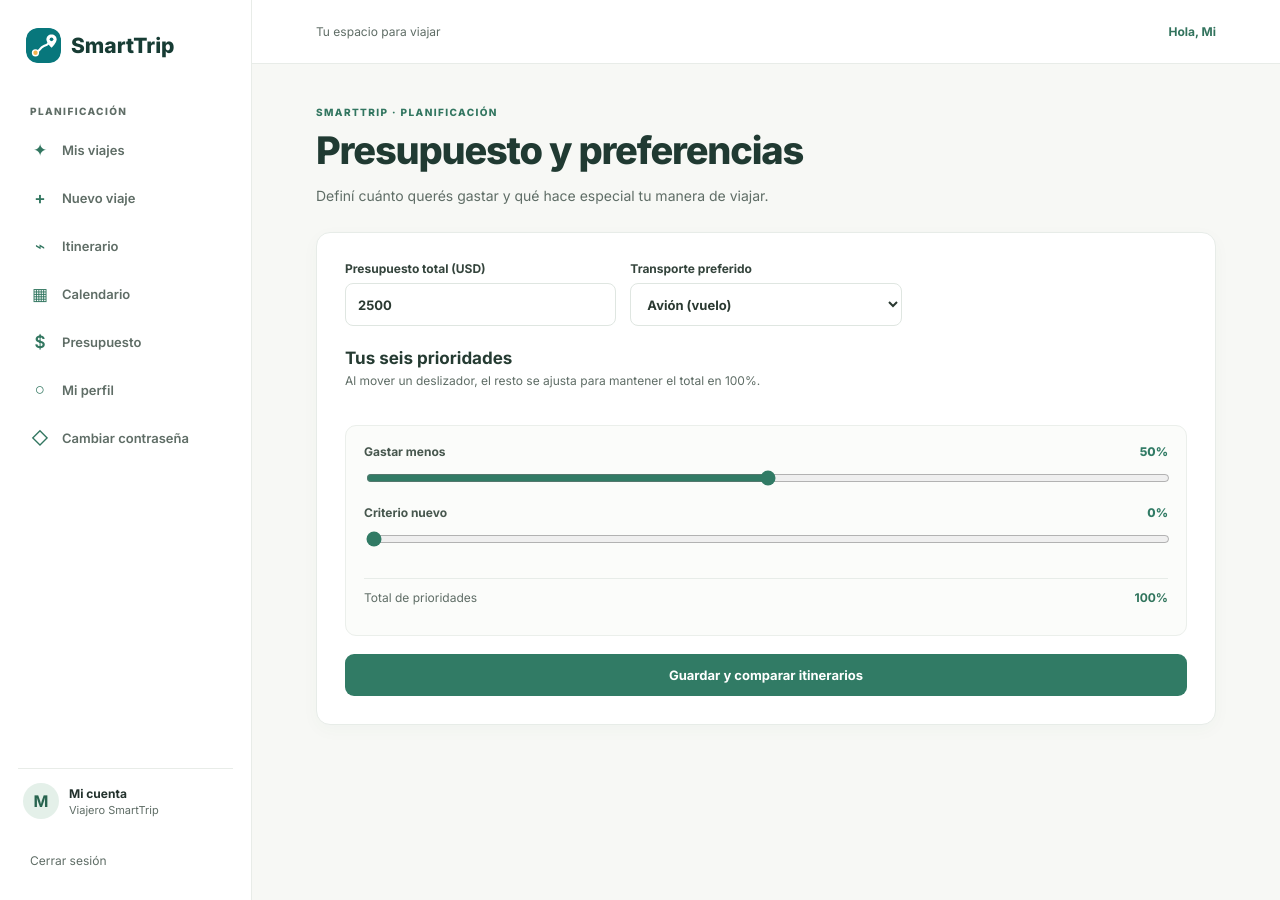
Test: BudgetPreferences › con las opciones que define el backend › no guarda si un criterio nuevo del backend hace que las seis prioridades no sumen 100
Set the slider named "Criterio nuevo" to "20": {"x": 532, "y": 539} [366,531,1170,547]
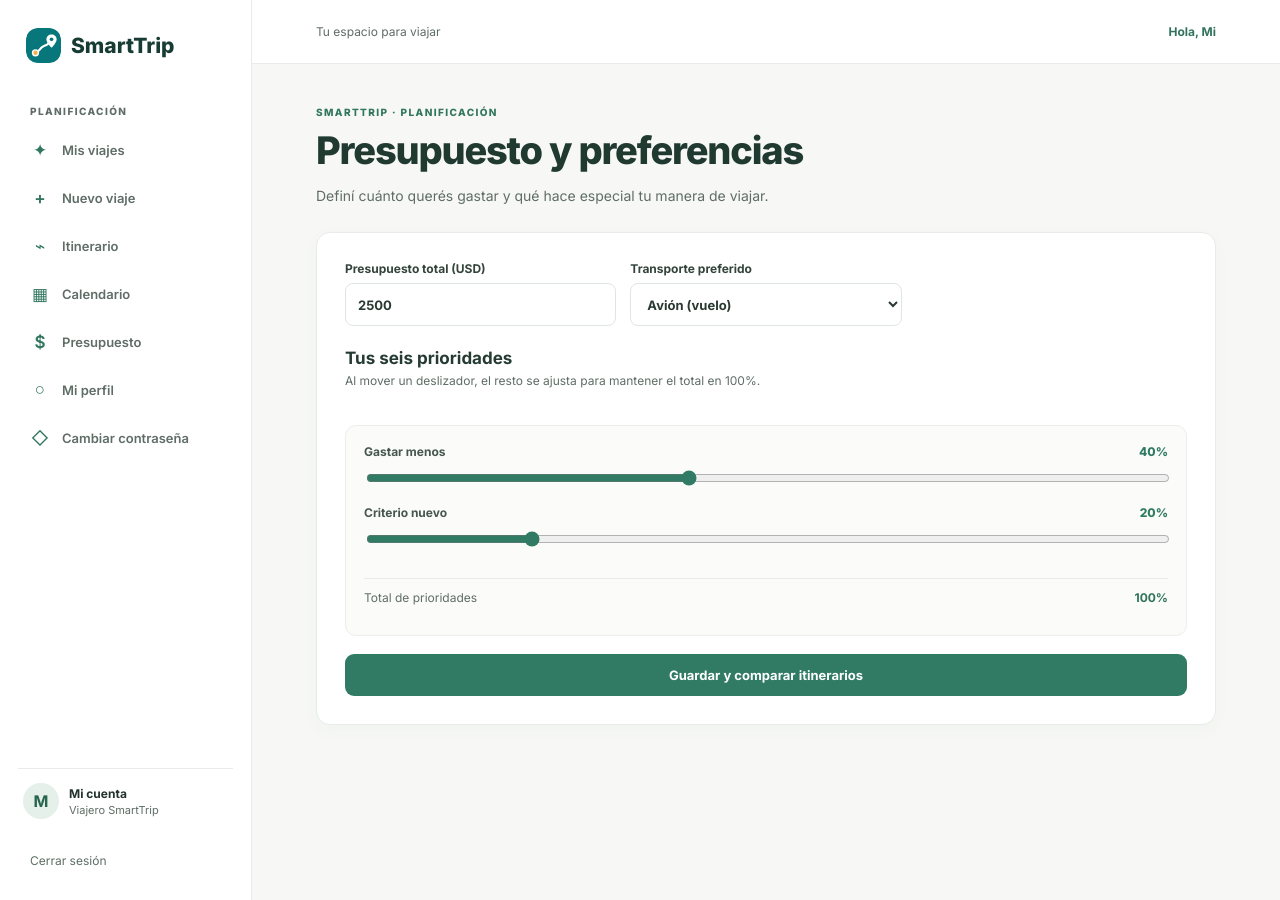
Set the slider named "Gastar menos" to "50": {"x": 768, "y": 478} [366,470,1170,486]
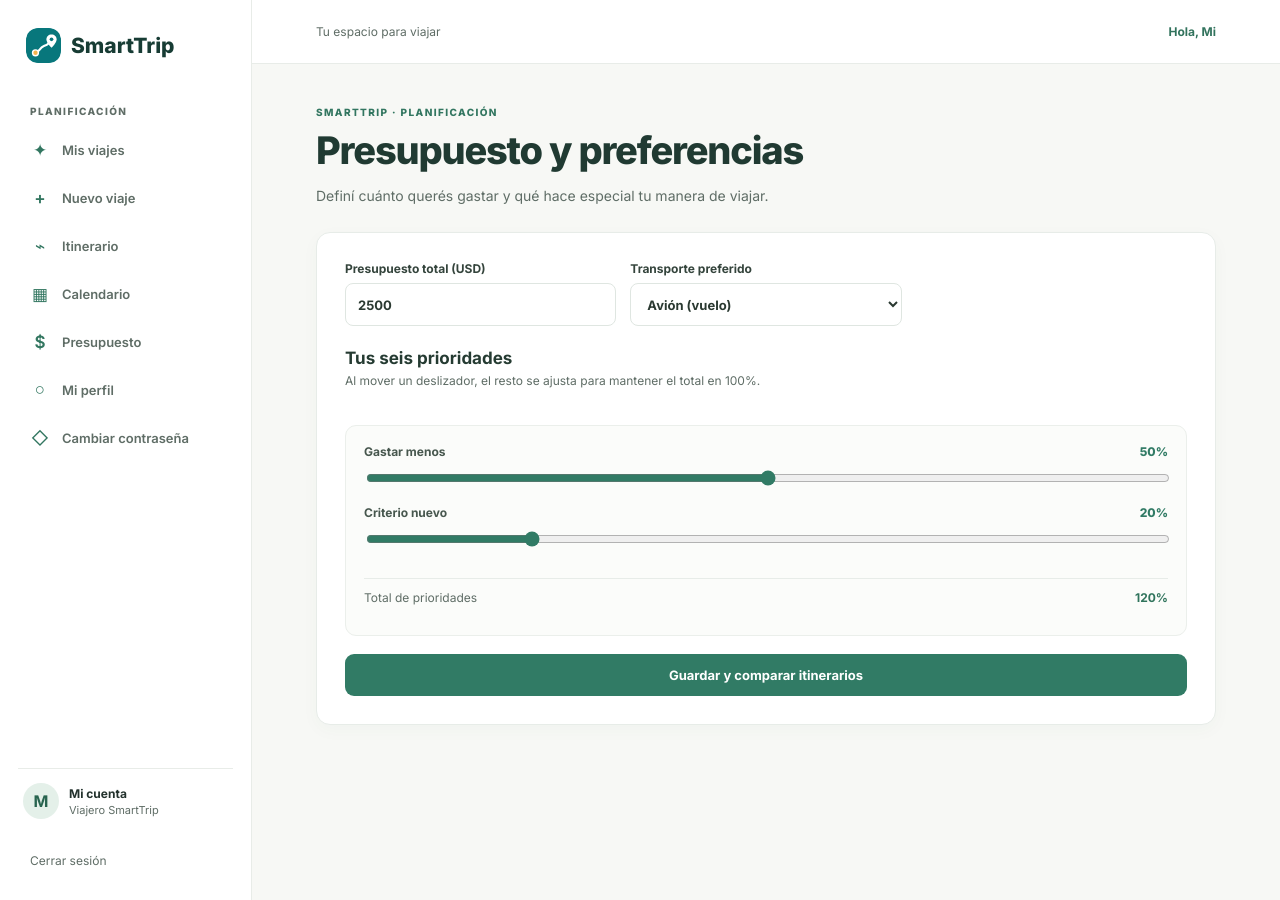
Click the button "Guardar y comparar itinerarios": {"x": 766, "y": 675} [345,654,1187,696]
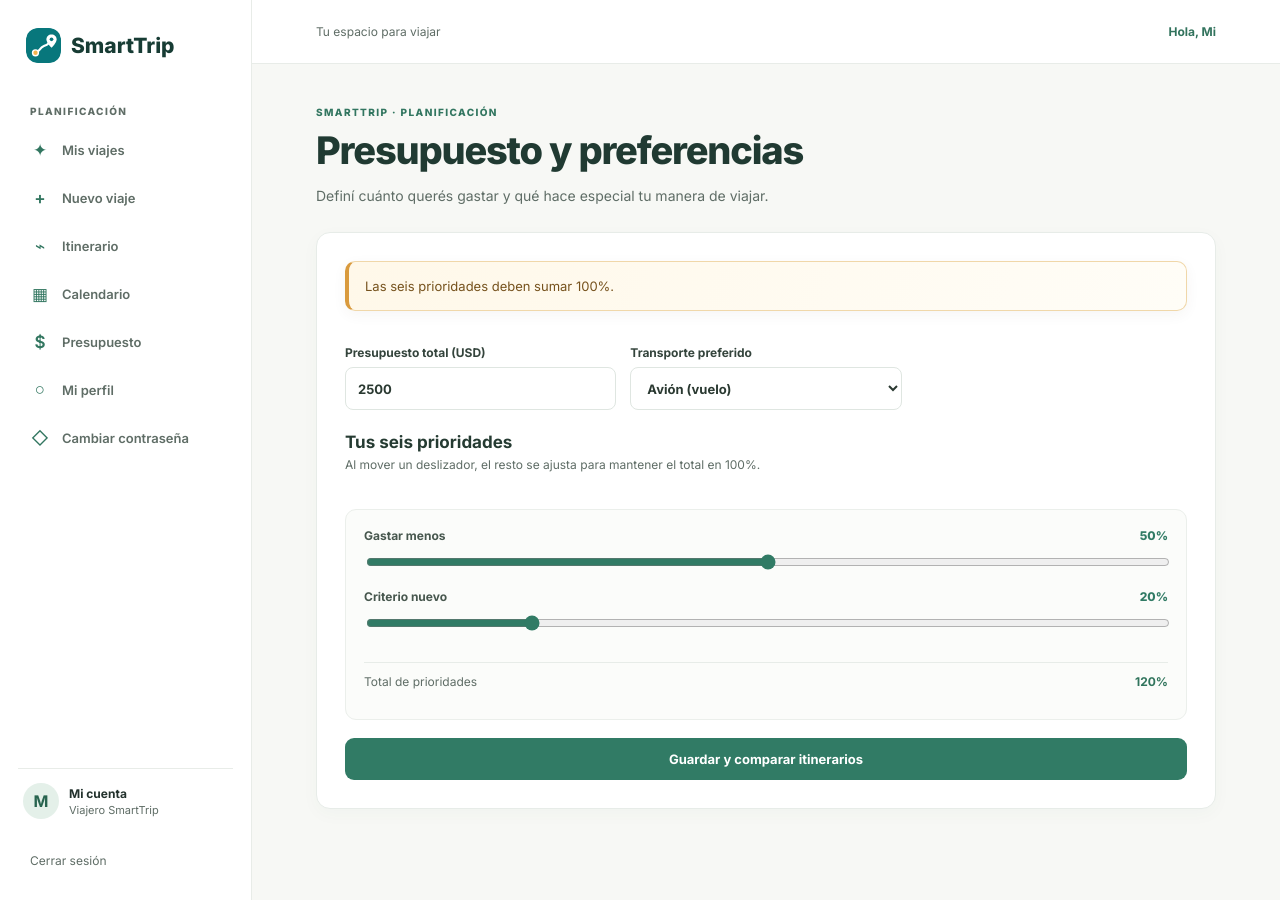
Now the message reads "Las seis prioridades deben sumar 100%.", box [365,278,614,294]
